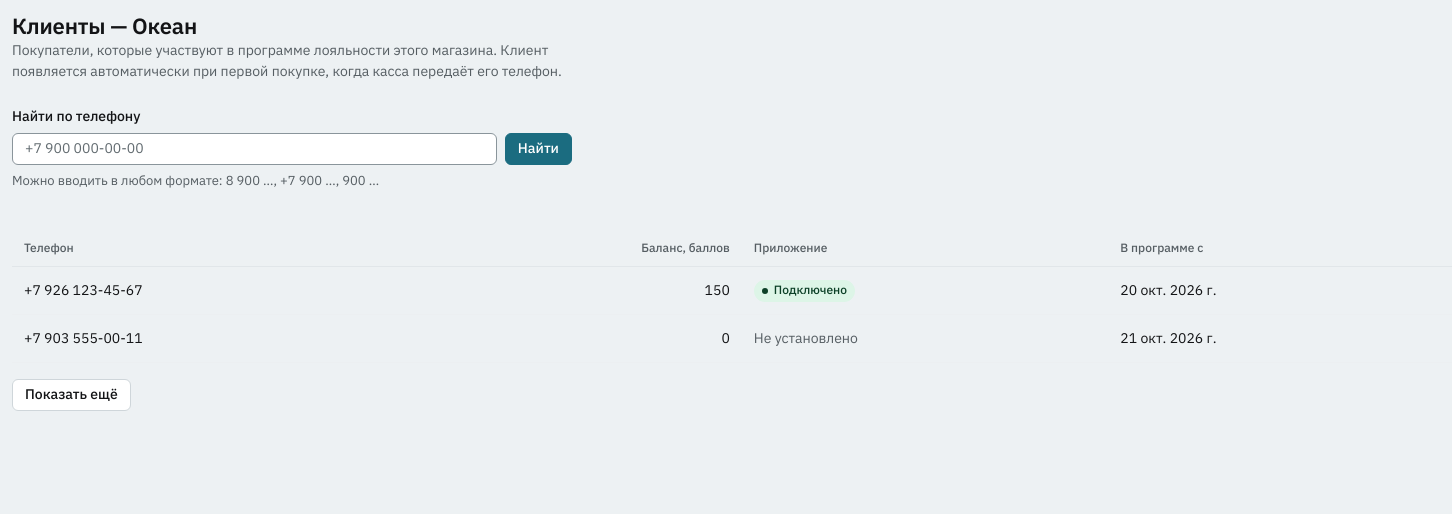
ClientsPage › searches by phone: a hit opens the card, a miss explains why
Click the button "Найти".
click(538, 148)  # box x1=505 y1=132 x2=572 y2=164
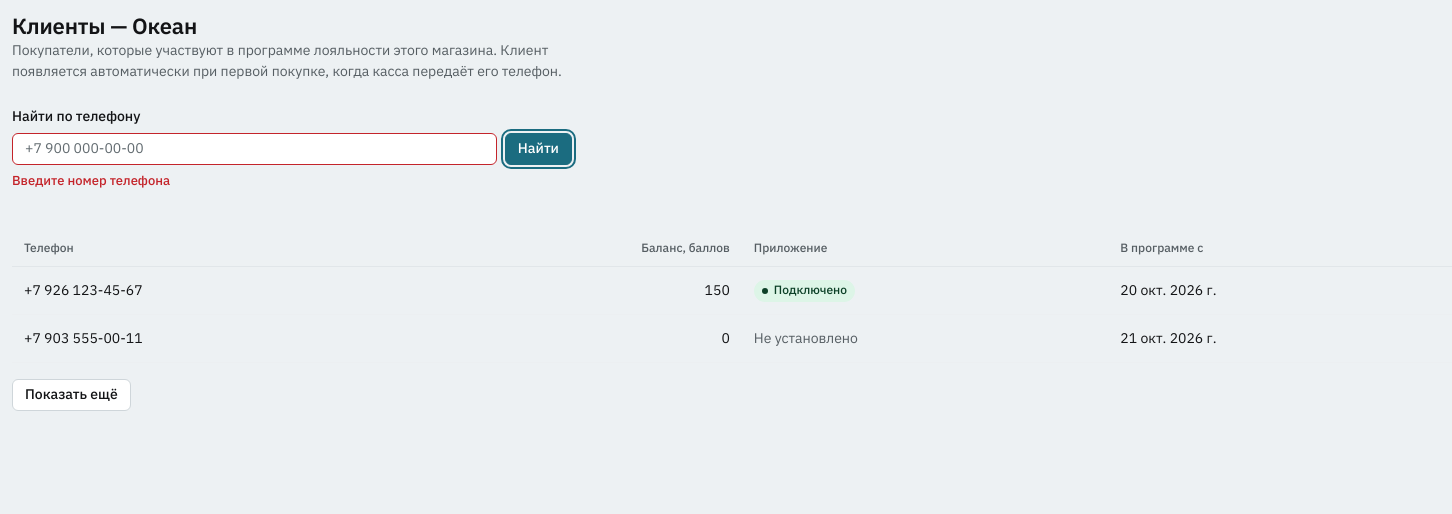
Check: the text "Введите номер телефона" is shown, box x1=12 y1=172 x2=170 y2=188
Type "8 900 000 00 00" into the field labelled "Найти по телефону".
click(254, 148); type("8 900 000 00 00")  # box x1=12 y1=132 x2=497 y2=164
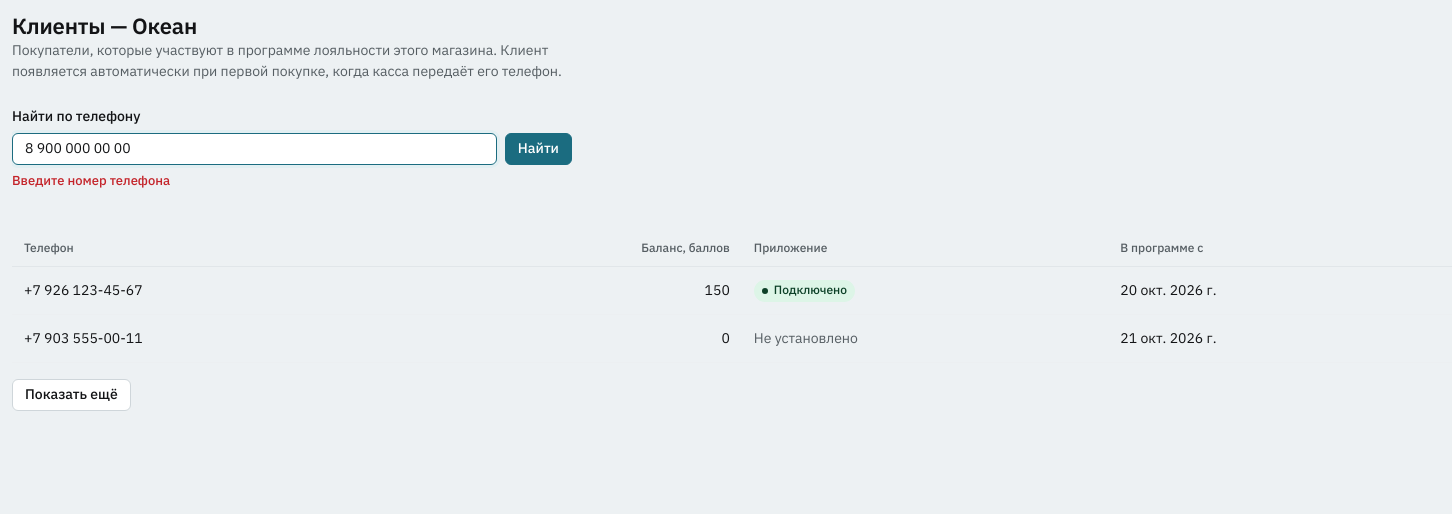
Click the button "Найти".
click(538, 148)  # box x1=505 y1=132 x2=572 y2=164
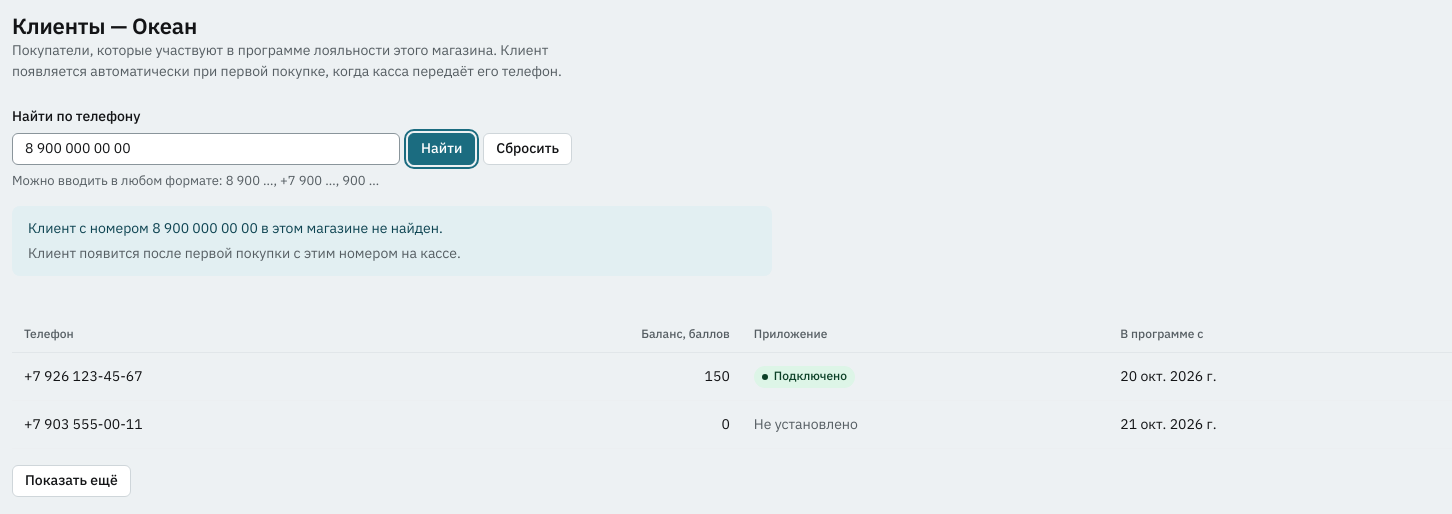
Check: the message shows "Клиент с номером 8 900 000 00 00 в этом магазине не найден.", box x1=28 y1=219 x2=443 y2=237
Replace the text in the field labelled "Найти по телефону" with "8 903 555 00 11" at (206, 148), box x1=12 y1=132 x2=400 y2=164
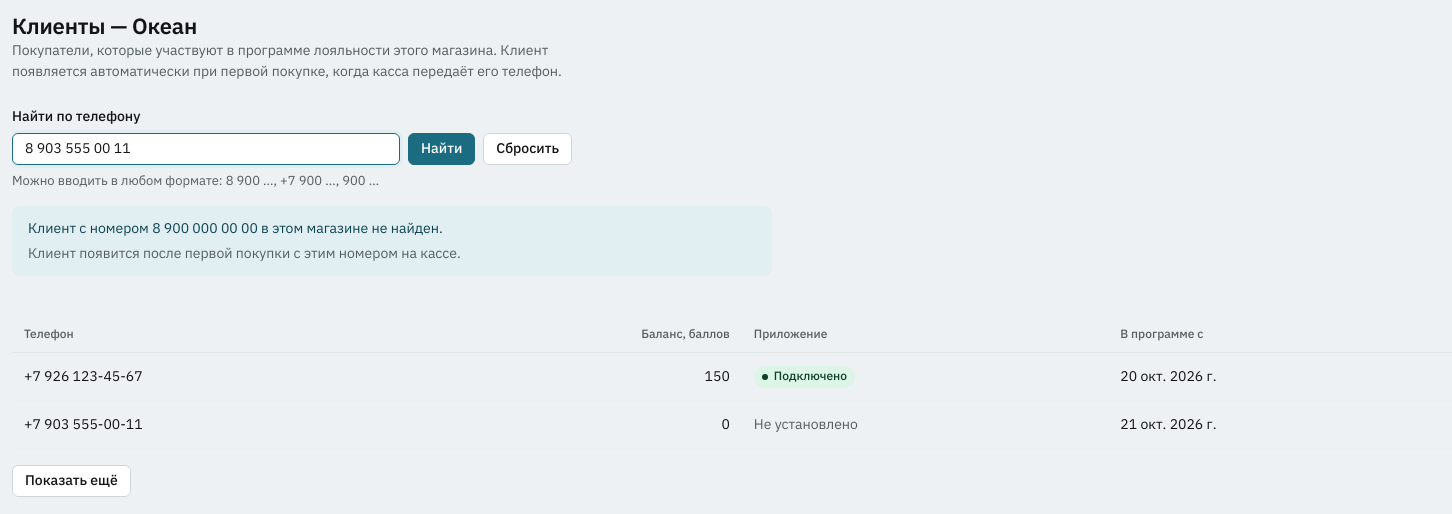
Click the button "Найти".
click(442, 148)  # box x1=408 y1=132 x2=475 y2=164
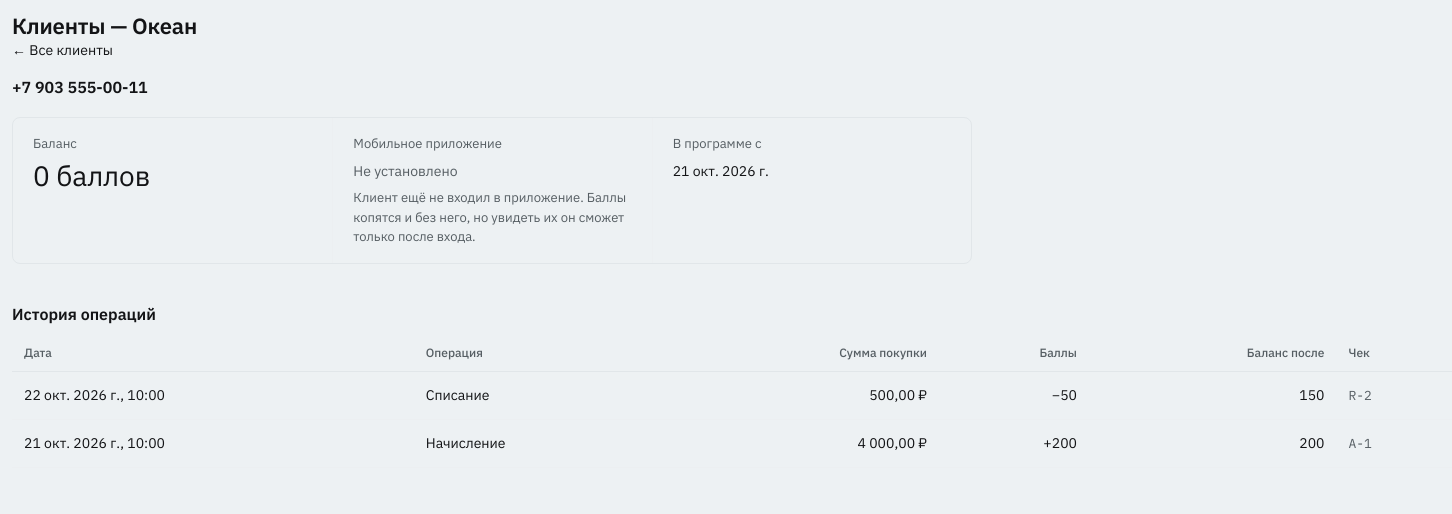
Check: the heading "+7 903 555-00-11" is shown, box x1=12 y1=76 x2=148 y2=96
Check: the text "ещё не входил в приложение" is shown, box x1=353 y1=189 x2=626 y2=245
